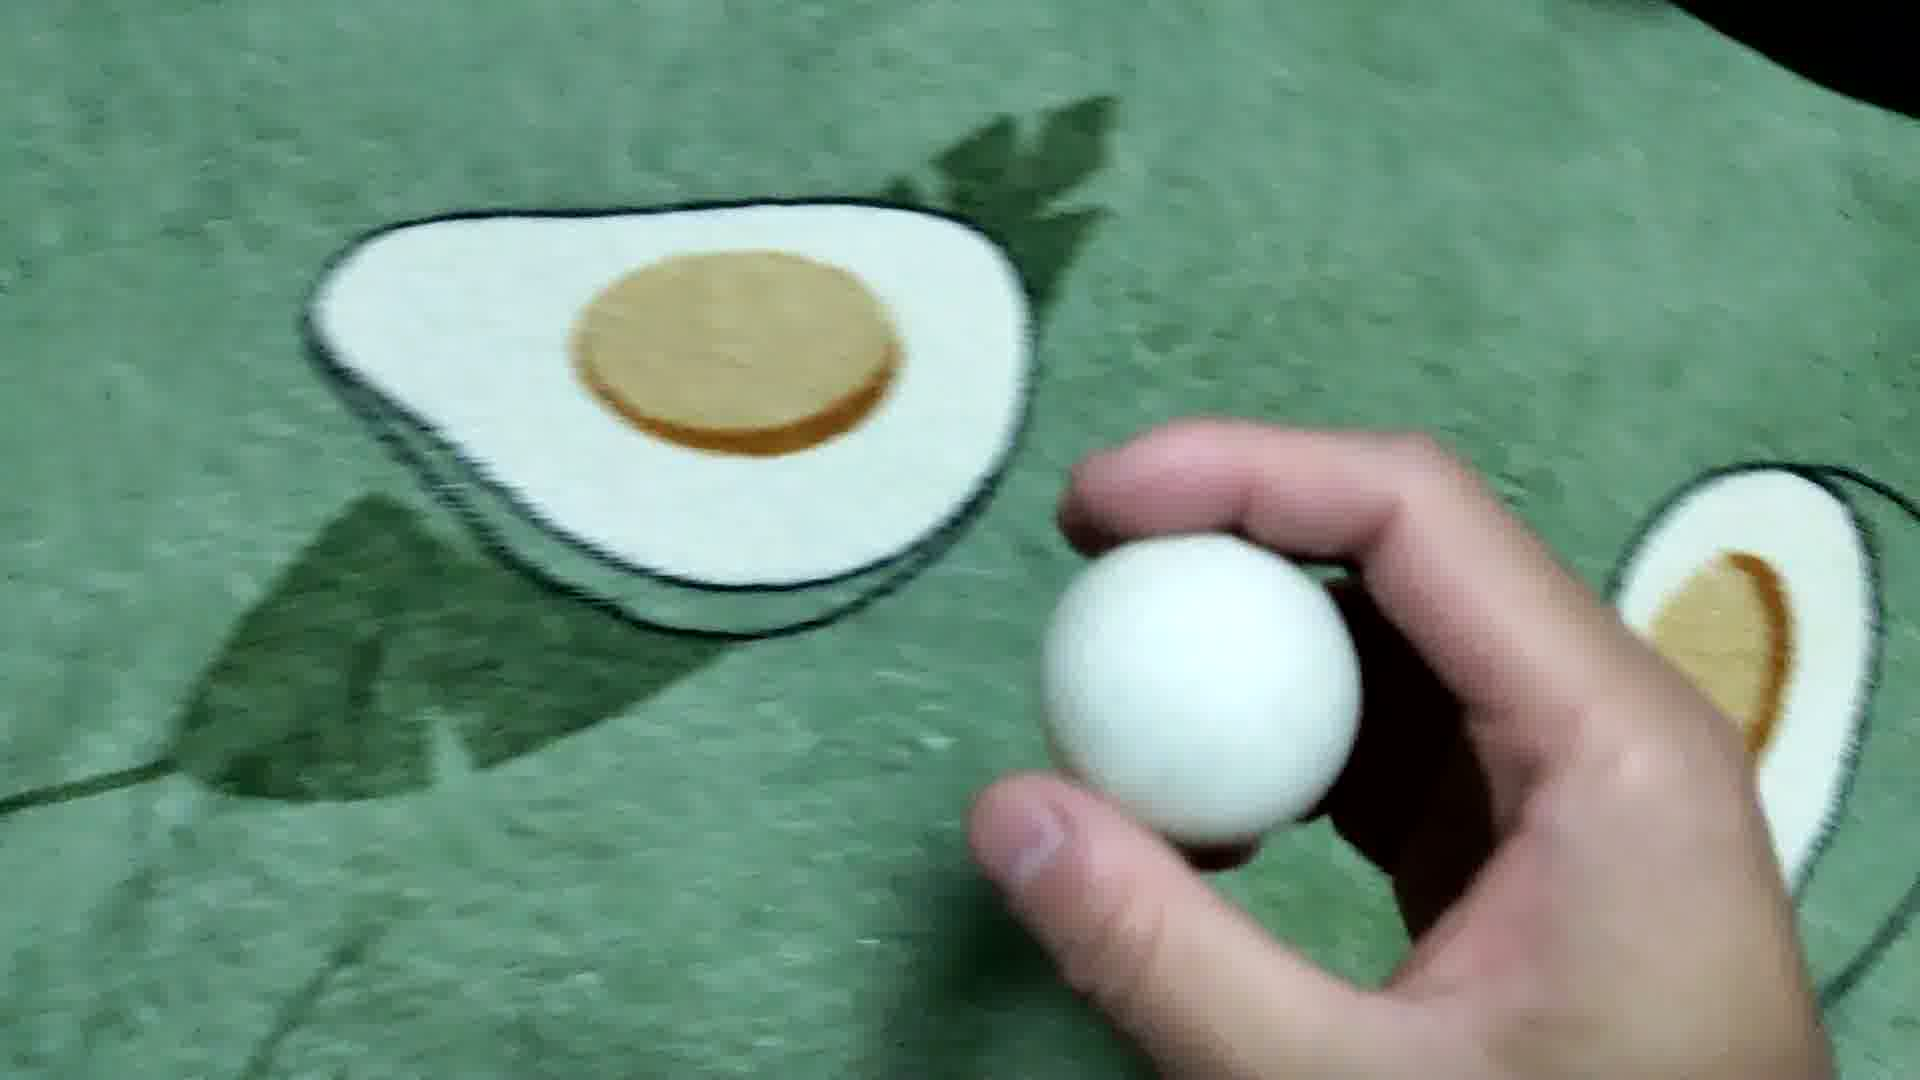Ball: (1040, 531, 1364, 843)
